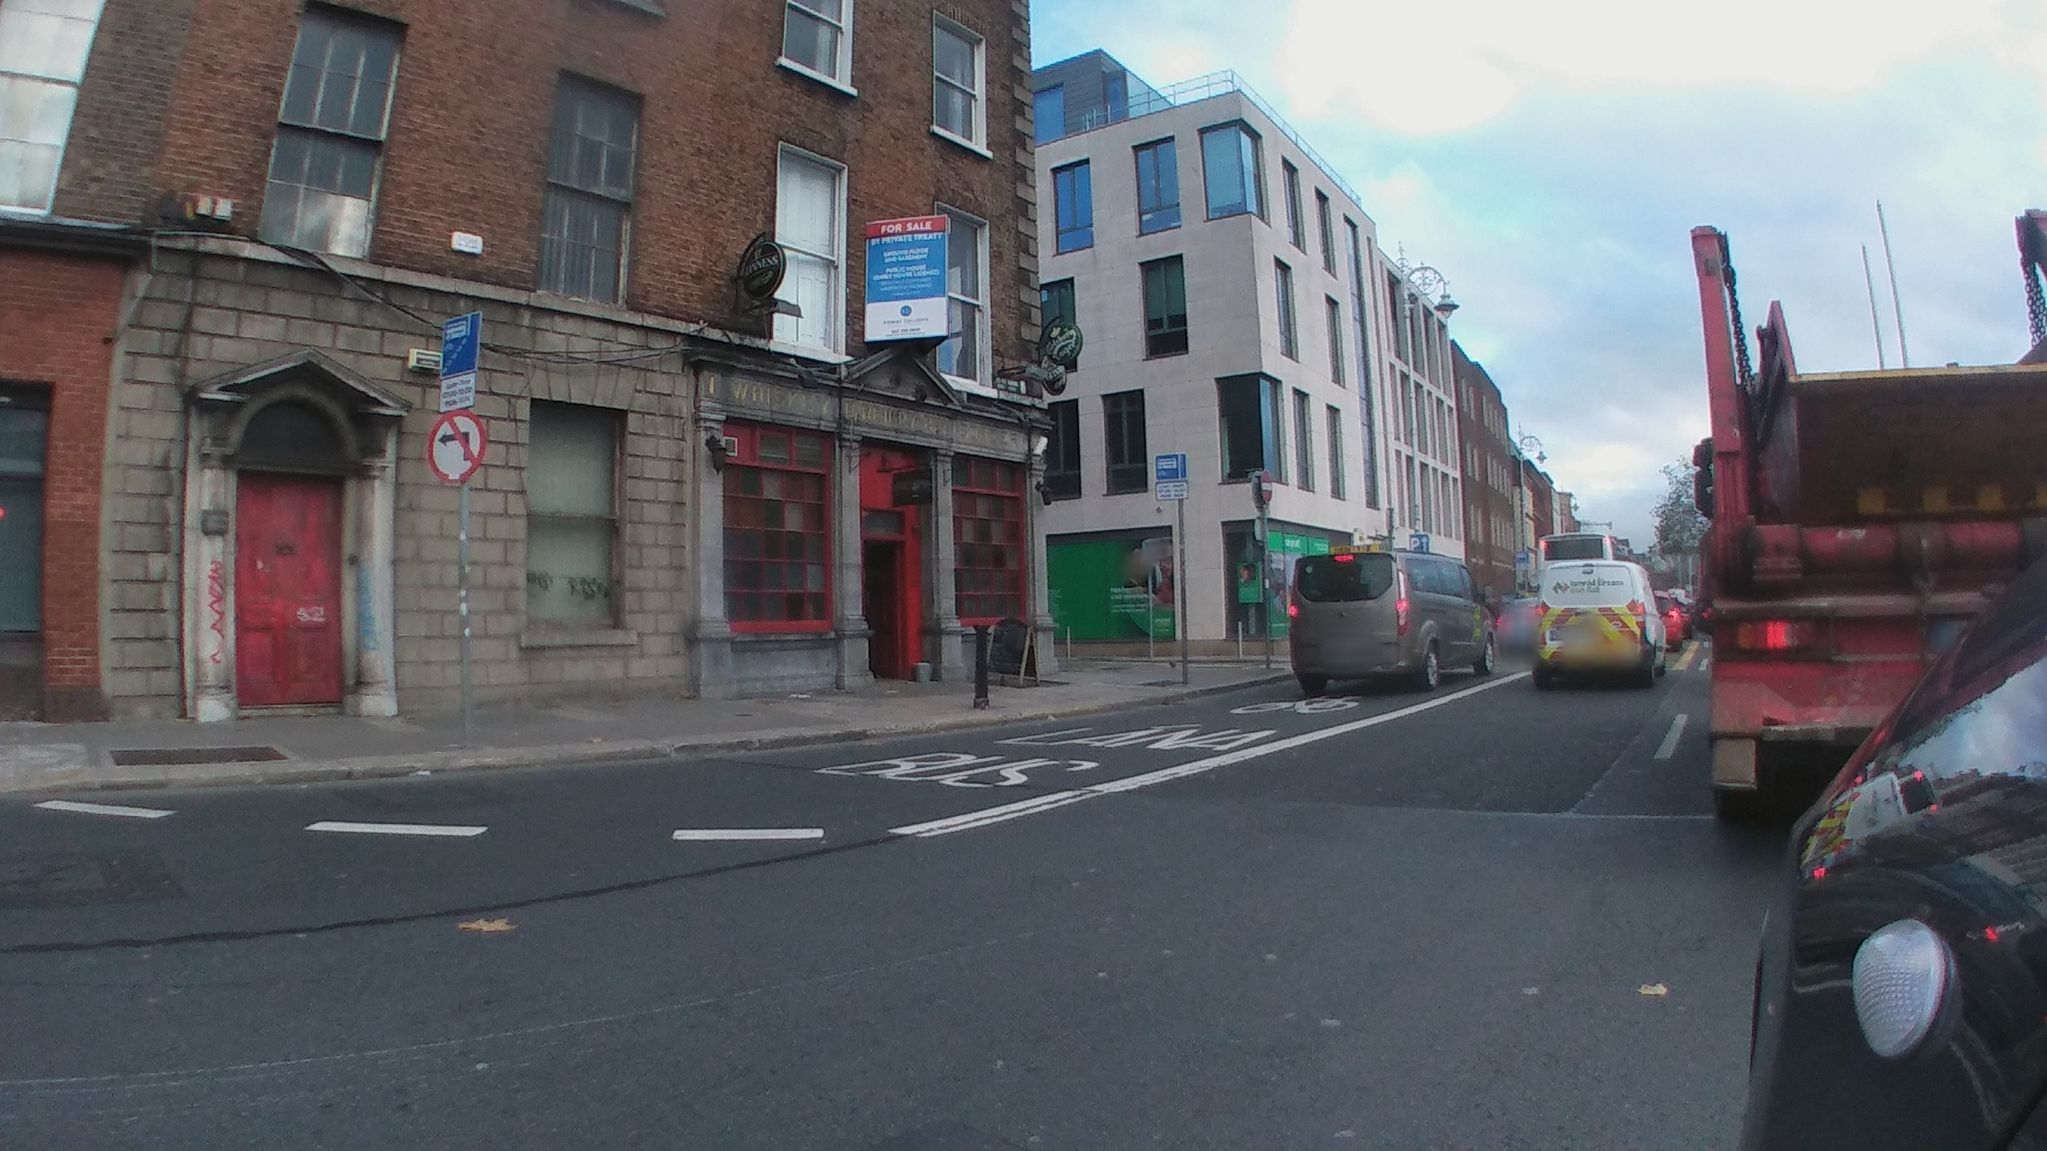property sign: (858, 201, 955, 360)
